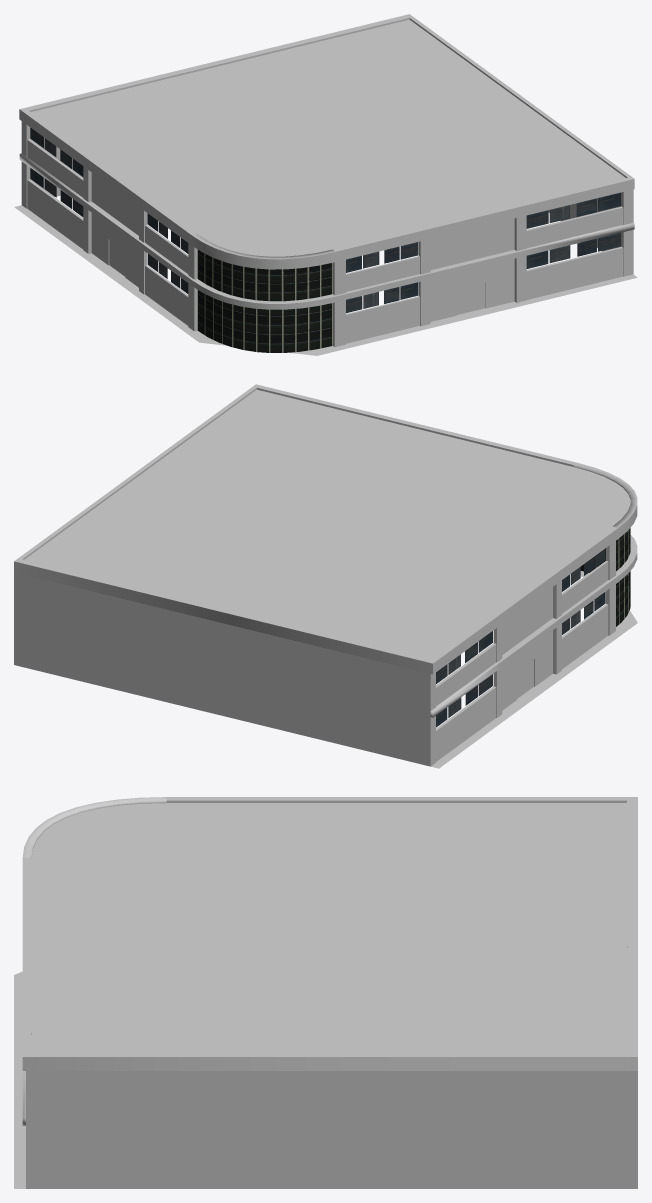
The picture shows the model from 3 angles, top to bottom: view 1: azimuth 30°, elevation 25°; view 2: azimuth 150°, elevation 25°; view 3: azimuth 270°, elevation 25°; orthographic projection. The views are drawn at different scales.
Visible parts, largest first — view 1: EB-017; view 2: EB-017; view 3: EB-017.
Part boxes in pixels (<box>): EB-017: <box>14,14,637,355</box>; EB-017: <box>14,384,637,768</box>; EB-017: <box>14,797,637,1188</box>.
Size of what is drawn, in the model's own units: 36 by 8.39 by 36.
